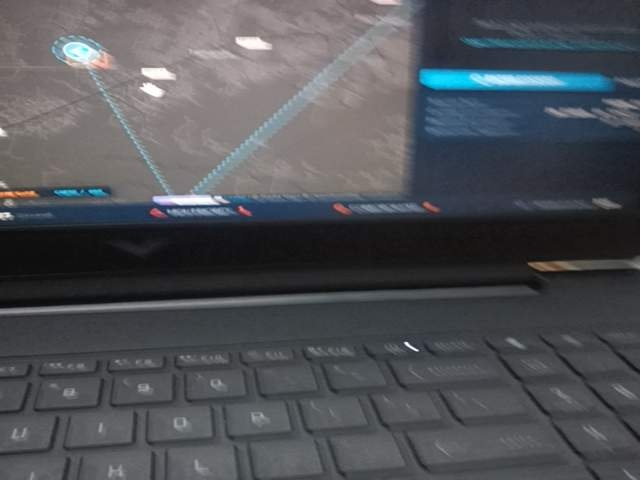pothole: (105, 301, 314, 444), (104, 403, 313, 480), (530, 403, 640, 480)
